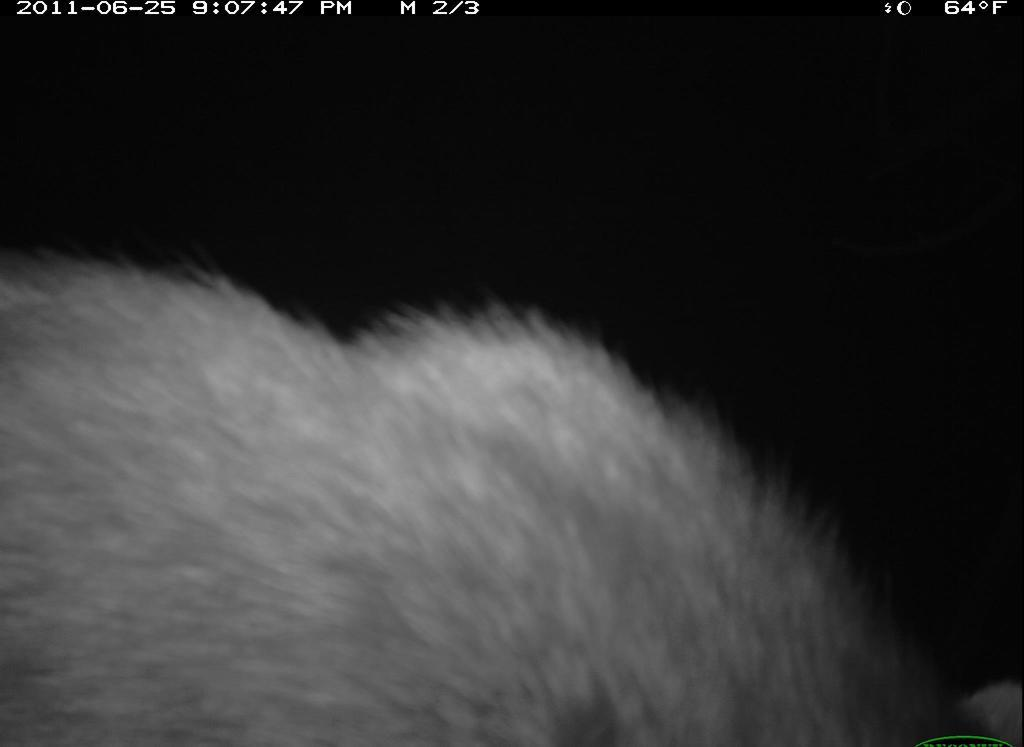raccoon: (1, 251, 1008, 747)
